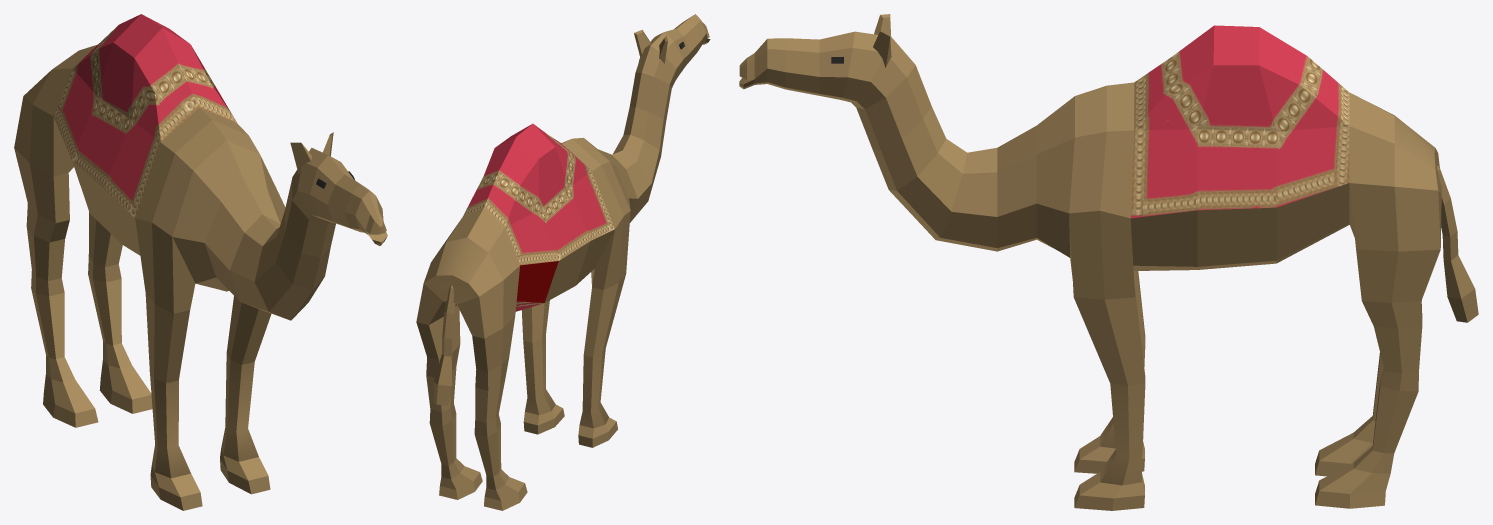
The model's file is lac da.fbx.
3 views of the same model, side by side, from view 1: azimuth 30°, elevation 25°; view 2: azimuth 150°, elevation 25°; view 3: azimuth 270°, elevation 25° (orthographic). The views are drawn at different scales.
Parts seen in each view (by area): view 1: lac_da; view 2: lac_da; view 3: lac_da.
Part boxes in pixels (bbox=[...]): lac_da: bbox=[14, 14, 387, 510]; lac_da: bbox=[416, 14, 710, 510]; lac_da: bbox=[739, 14, 1478, 510].
Bounding box in the file's own units: 2.82 × 8.76 × 12.7.
4 materials, 1 textured.
